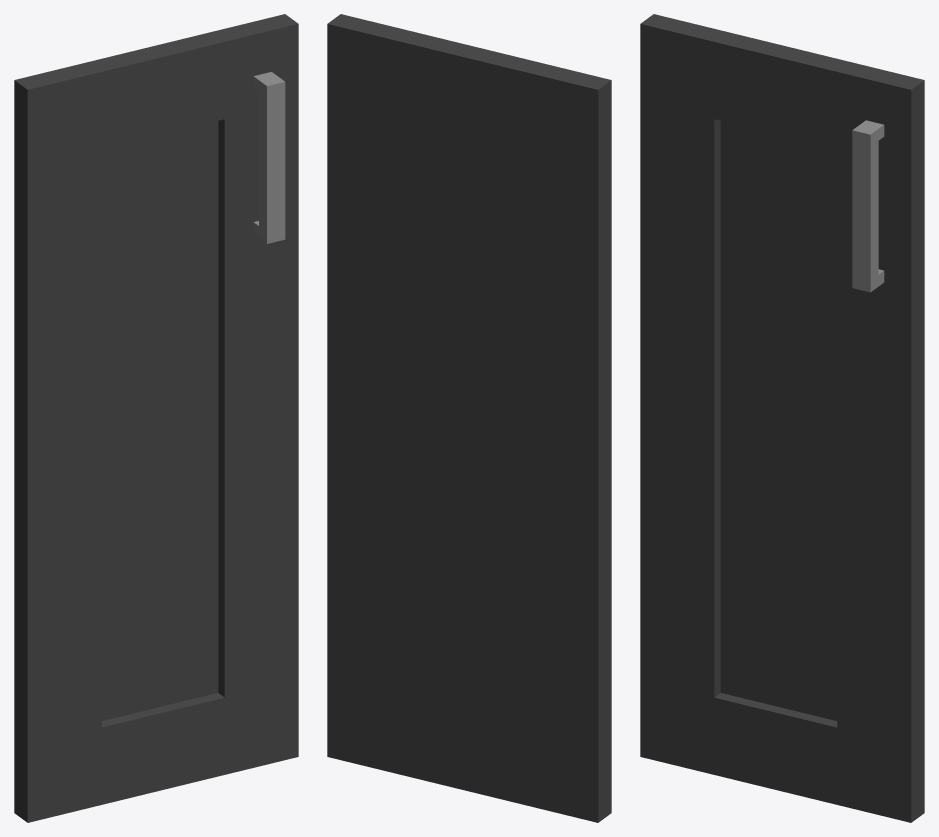
File: Door2_C3_04.fbx
The picture shows the model from 3 angles, left to right: view 1: azimuth 30°, elevation 25°; view 2: azimuth 150°, elevation 25°; view 3: azimuth 330°, elevation 25°; orthographic projection.
Visible parts, largest first — view 1: Door2_C3_04; view 2: Door2_C3_04; view 3: Door2_C3_04.
Boxes of the visible parts, bbox=[...] form: Door2_C3_04: bbox=[14, 14, 298, 822]; Door2_C3_04: bbox=[327, 14, 611, 822]; Door2_C3_04: bbox=[640, 14, 924, 822].
Bounding box in the file's own units: 29 × 75 × 5.03.
